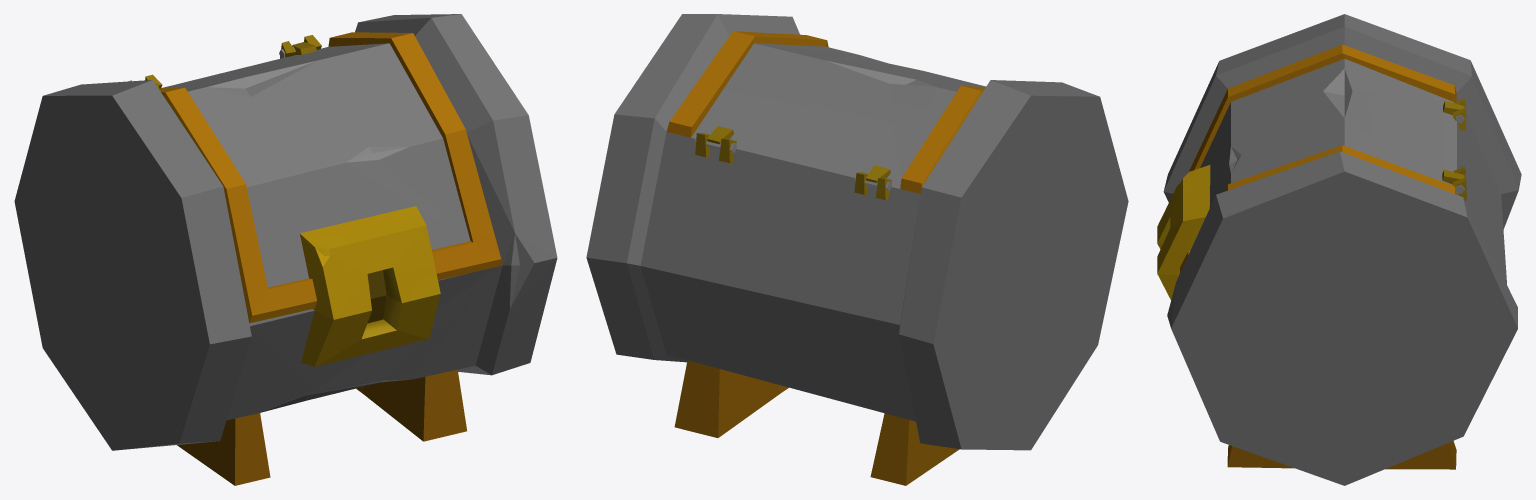
The model's file is Chest Tube.glb.
3 renders of one model, left to right at view 1: azimuth 30°, elevation 25°; view 2: azimuth 150°, elevation 25°; view 3: azimuth 270°, elevation 25°, orthographic. The views are drawn at different scales.
Parts seen in each view (by area): view 1: ChestTube; view 2: ChestTube; view 3: ChestTube.
Part boxes in pixels (x1=…): ChestTube: x1=14, y1=14, x2=557, y2=485; ChestTube: x1=586, y1=14, x2=1128, y2=485; ChestTube: x1=1157, y1=14, x2=1521, y2=485.
Size of what is drawn, in the model's own units: 1 by 0.9989 by 0.9985.
1 material, 1 textured.
